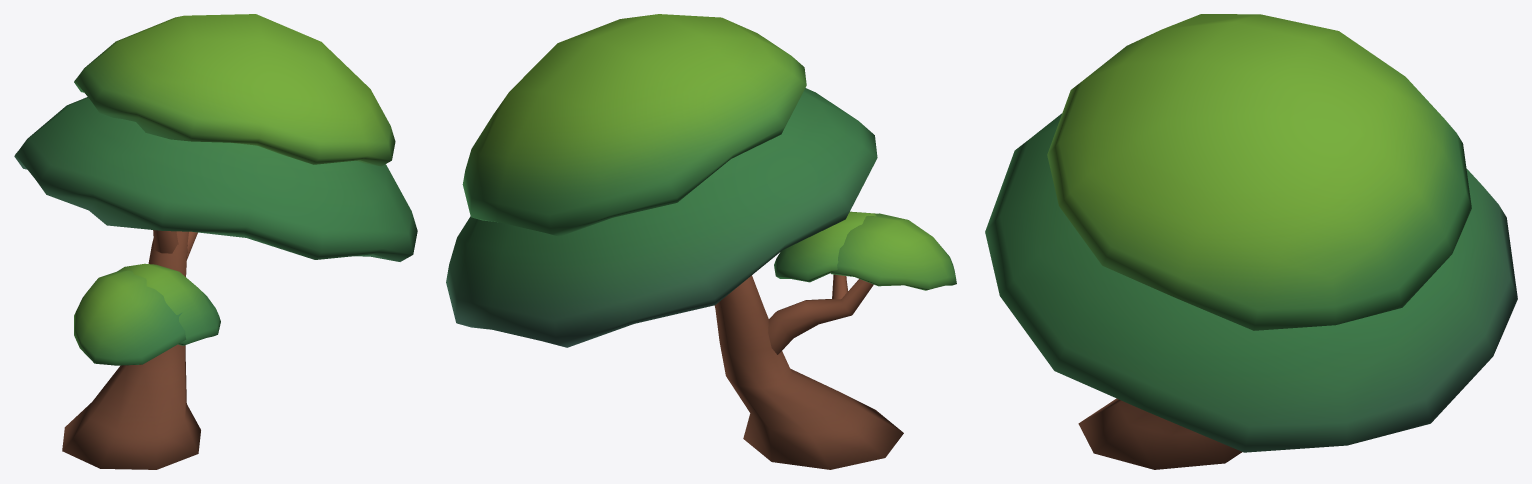
Rendered from pohon_2.fbx.
3 views of the same model, side by side, from view 1: azimuth 30°, elevation 25°; view 2: azimuth 150°, elevation 25°; view 3: azimuth 270°, elevation 25° (orthographic). The views are drawn at different scales.
Parts seen in each view (by area): view 1: pohon_2; view 2: pohon_2; view 3: pohon_2.
Boxes of the visible parts, bbox=[...] form: pohon_2: bbox=[14, 14, 417, 469]; pohon_2: bbox=[446, 14, 956, 469]; pohon_2: bbox=[985, 14, 1517, 469].
Bounding box in the file's own units: 10.09 × 9.45 × 9.86.
1 material, 1 textured.
